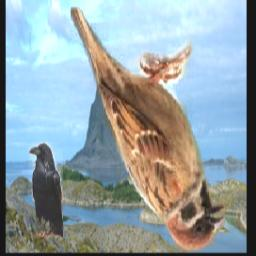Crow: (29, 142, 64, 237)
Sparrow: (71, 7, 225, 252)
